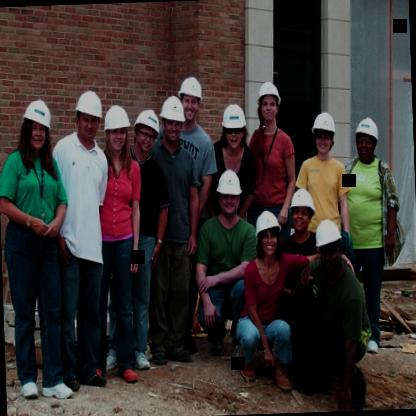helmet: (22, 99, 54, 154), (315, 220, 346, 272), (130, 107, 162, 156), (102, 102, 132, 154), (75, 89, 104, 138), (288, 186, 318, 233), (354, 114, 382, 164), (311, 109, 339, 158), (220, 98, 246, 150), (256, 208, 283, 256), (217, 168, 243, 216), (178, 74, 204, 122), (160, 96, 186, 141), (258, 80, 282, 122)
